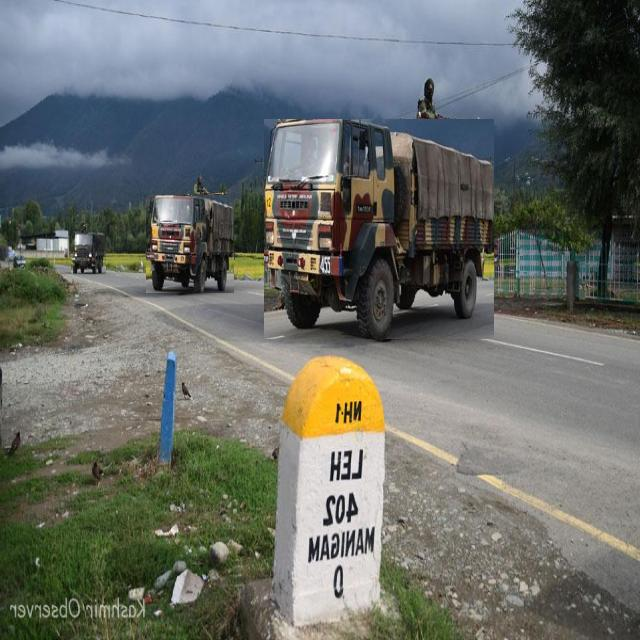truck: (264, 119, 494, 339), (146, 196, 234, 293), (71, 223, 106, 275)
